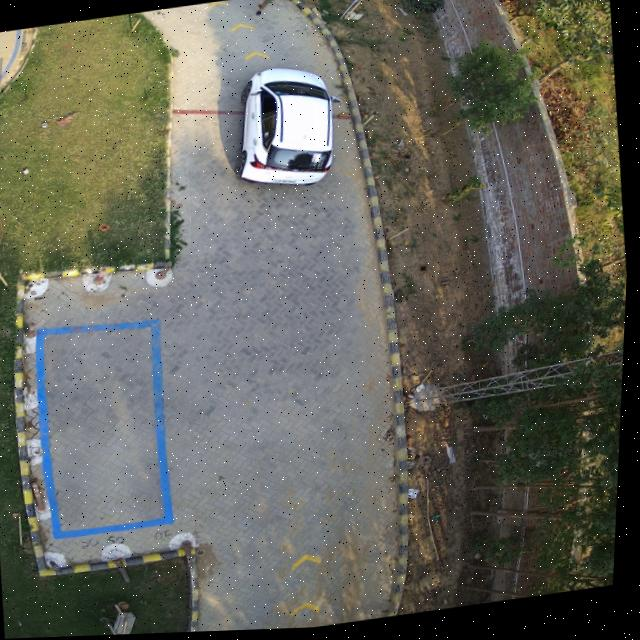car: (239, 69, 333, 188)
